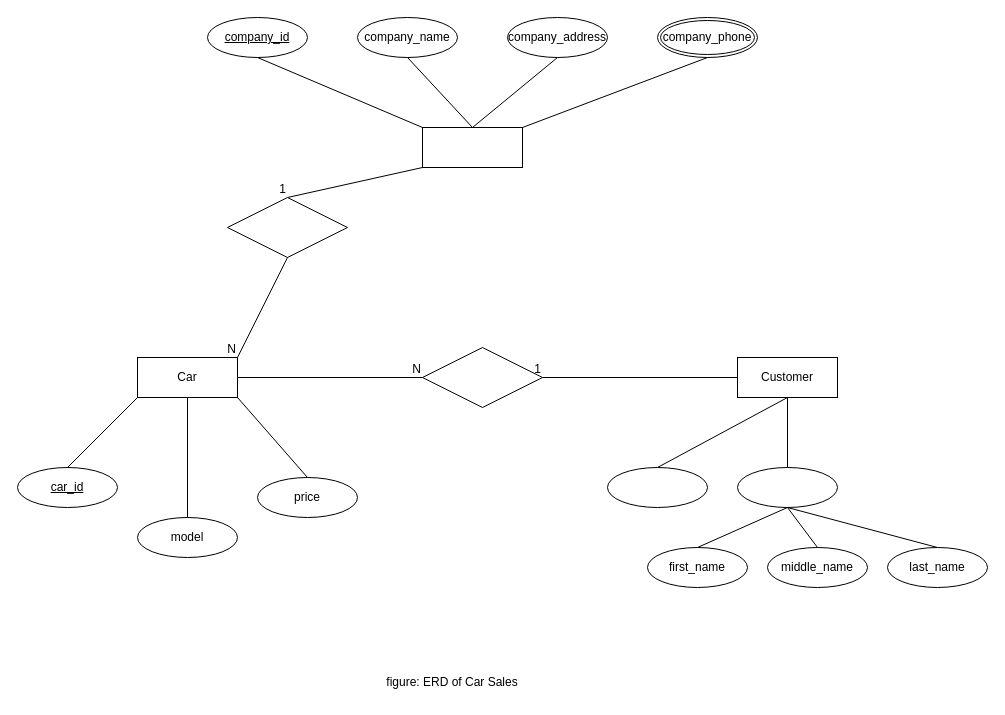
Image size: 1005x715. Some labels were removed from this diagram. Here are the shapes that lost their labels. From the top down, the centre of each, then its label:
(x=472, y=147): Company
(x=287, y=227): sells
(x=482, y=377): purchases
(x=657, y=487): customer_id
(x=787, y=487): name
